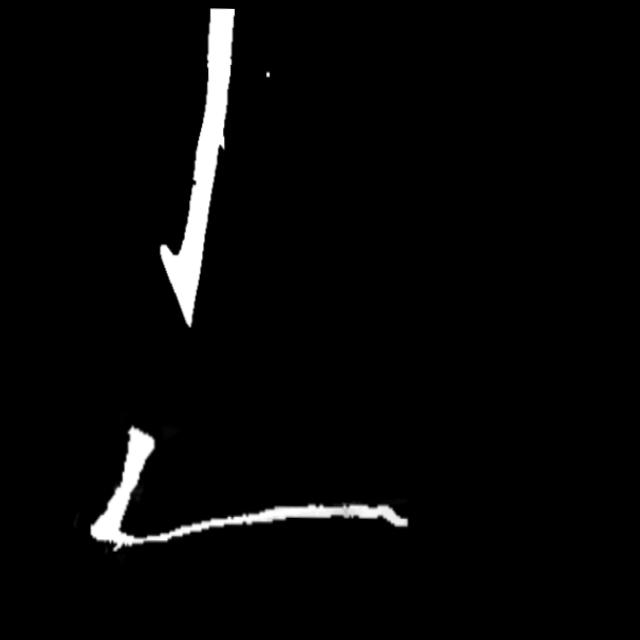sup_pli: (110, 534, 127, 558)
